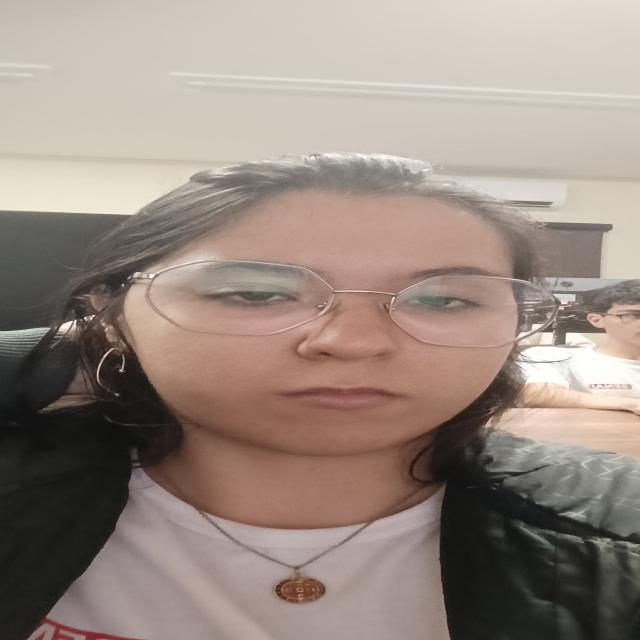sem_oculos: (131, 260, 556, 348)
